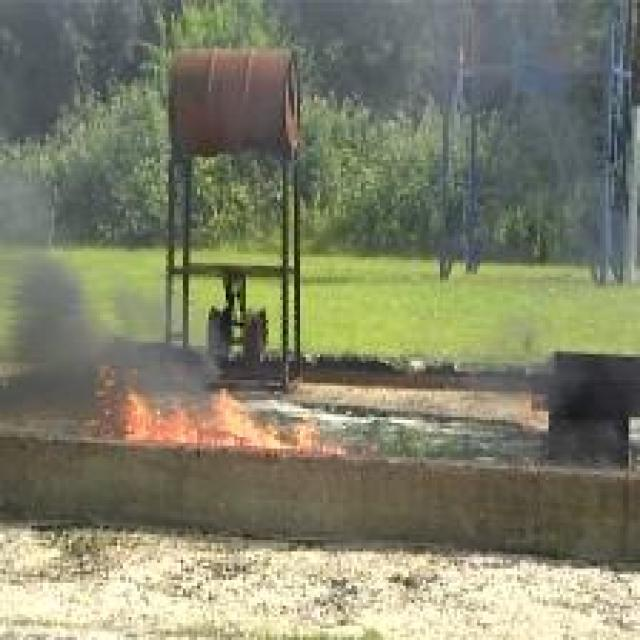Fire: (89, 363, 348, 451)
